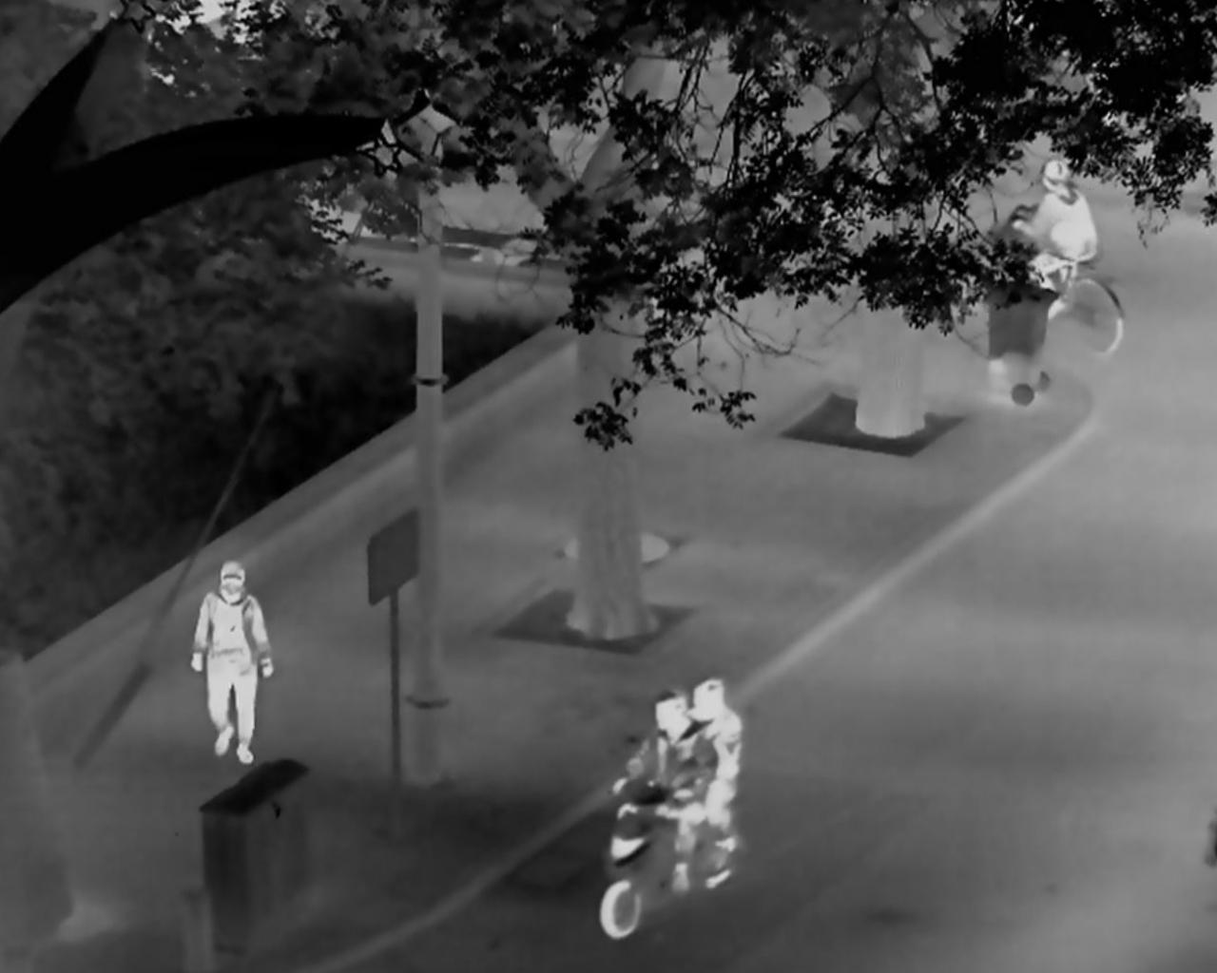person: (615, 685, 717, 894), (188, 558, 277, 763), (1013, 159, 1099, 318), (685, 677, 742, 855)
